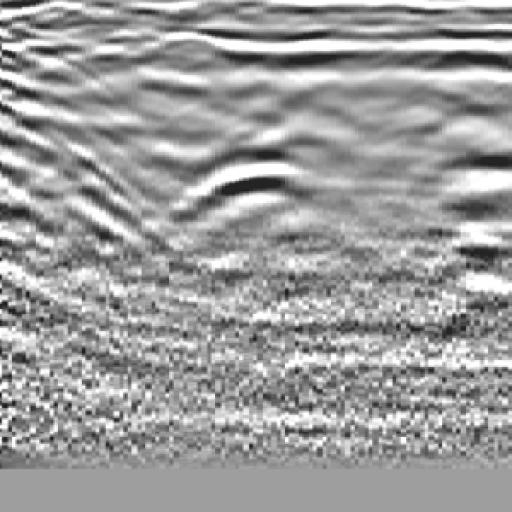metalic: (158, 110, 355, 255)
nonmetalic: (1, 32, 97, 272)
